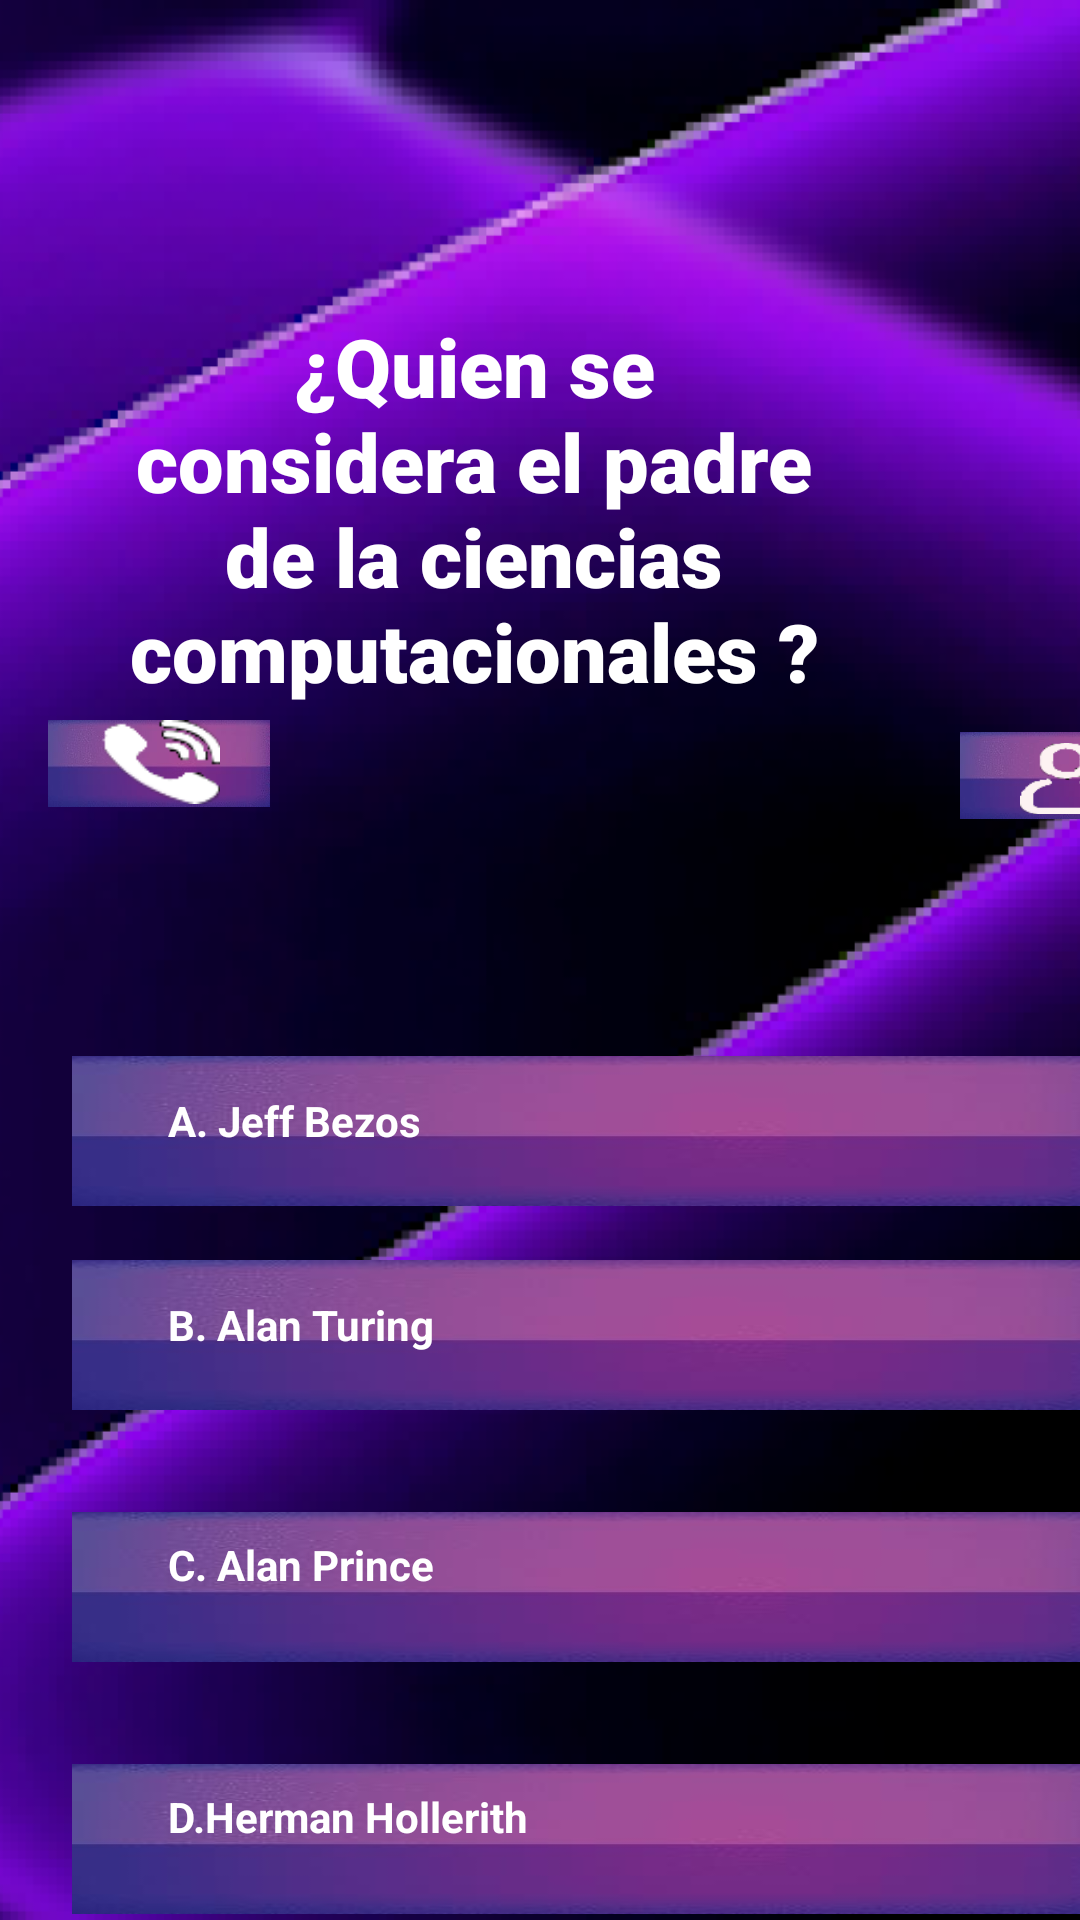

Named icons in this screenshot (1080*1920) and their centers, [x,y]:
call: [160,762]
